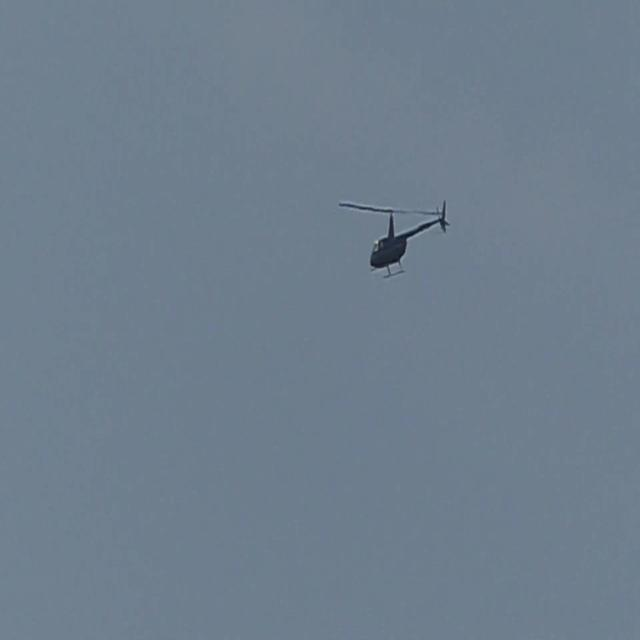CIV_HELO: (368, 198, 452, 280)
